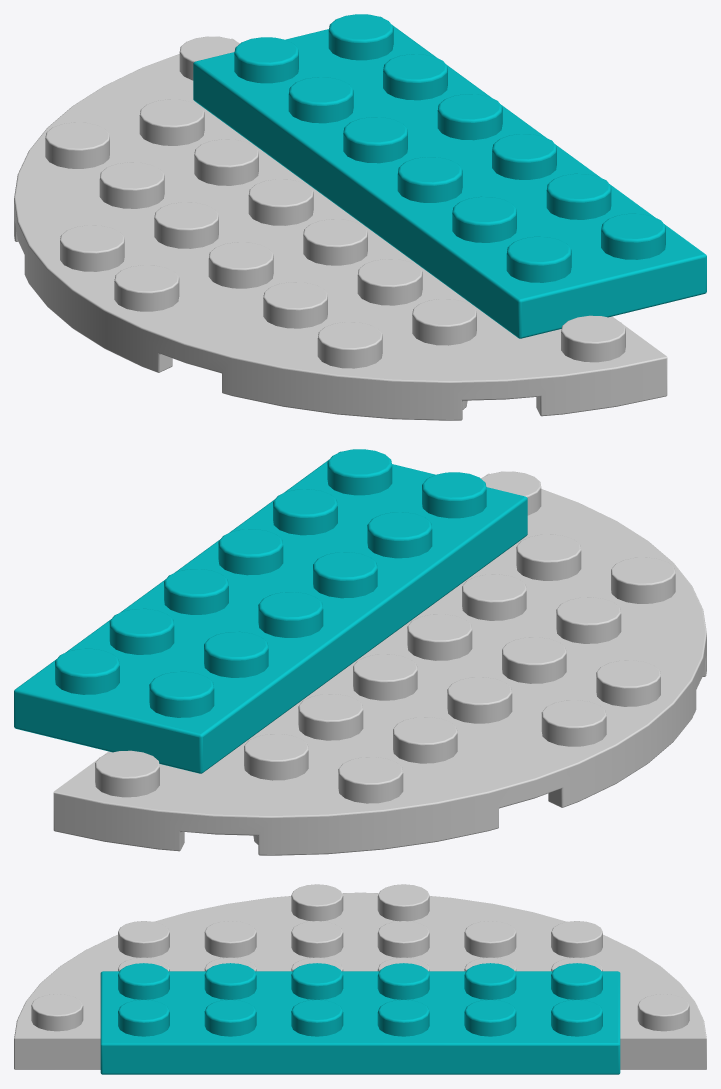
Rendered from Passo 1.fbx.
3 views of the same model, one above another, from view 1: azimuth 30°, elevation 25°; view 2: azimuth 150°, elevation 25°; view 3: azimuth 270°, elevation 25° (orthographic). The views are drawn at different scales.
Parts seen in each view (by area): view 1: Plate_round_4x8, Plate_2x6; view 2: Plate_round_4x8, Plate_2x6; view 3: Plate_2x6, Plate_round_4x8.
Part boxes in pixels (x1,y1,x2,y2): Plate_round_4x8: (14, 36, 667, 420); Plate_2x6: (193, 14, 706, 338); Plate_round_4x8: (53, 471, 706, 855); Plate_2x6: (14, 449, 527, 773); Plate_2x6: (100, 963, 620, 1074); Plate_round_4x8: (14, 884, 706, 1069).
Size of the model in its own units: 0.4 by 0.08 by 0.6397.
